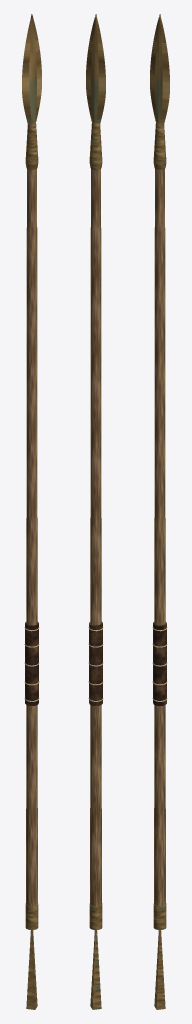
File: lancia.gltf
3 views of the same model, side by side, from view 1: azimuth 30°, elevation 25°; view 2: azimuth 150°, elevation 25°; view 3: azimuth 330°, elevation 25° (orthographic).
Parts seen in each view (by area): view 1: lancia; view 2: lancia; view 3: lancia.
Part boxes in pixels (x1=…): lancia: x1=22, y1=14, x2=41, y2=1009; lancia: x1=86, y1=14, x2=105, y2=1009; lancia: x1=150, y1=14, x2=169, y2=1009.
Size of the model in its own units: 0.045 by 2.11 by 0.0279.
4 materials, 4 textured.
